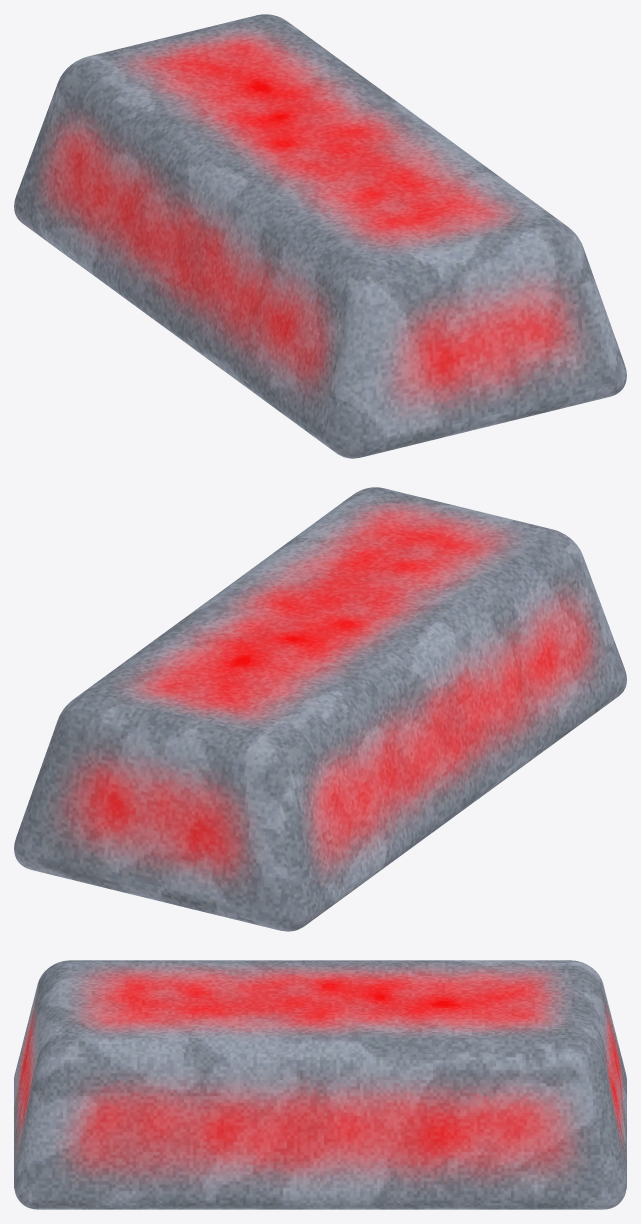
The model's file is stt-ingot.glb.
The picture shows the model from 3 angles, top to bottom: view 1: azimuth 30°, elevation 25°; view 2: azimuth 150°, elevation 25°; view 3: azimuth 270°, elevation 25°; orthographic projection. The views are drawn at different scales.
Visible parts, largest first — view 1: Ingot; view 2: Ingot; view 3: Ingot.
Boxes of the visible parts, bbox=[...] form: Ingot: bbox=[14, 14, 626, 458]; Ingot: bbox=[14, 487, 626, 931]; Ingot: bbox=[14, 960, 626, 1209].
Bounding box in the file's own units: 0.9762 × 0.5385 × 1.97.
Materials: 1 (1 with a texture image).
